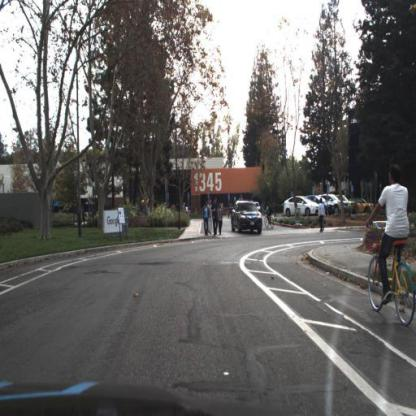biker: (367, 167, 416, 327)
car: (230, 198, 264, 236)
pedestrian: (315, 196, 326, 234), (202, 201, 211, 237), (212, 198, 220, 236), (218, 202, 224, 234), (208, 200, 213, 234)
